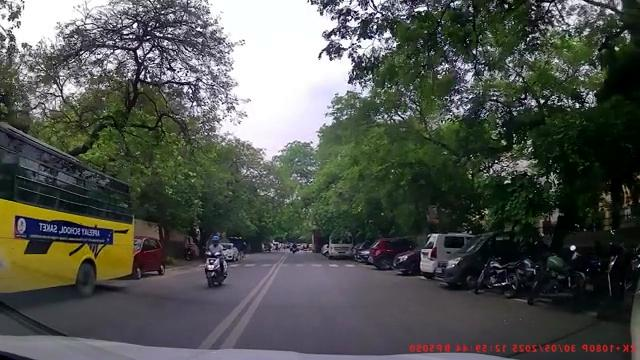motorcycle_with_helmet: (203, 233, 229, 288)
